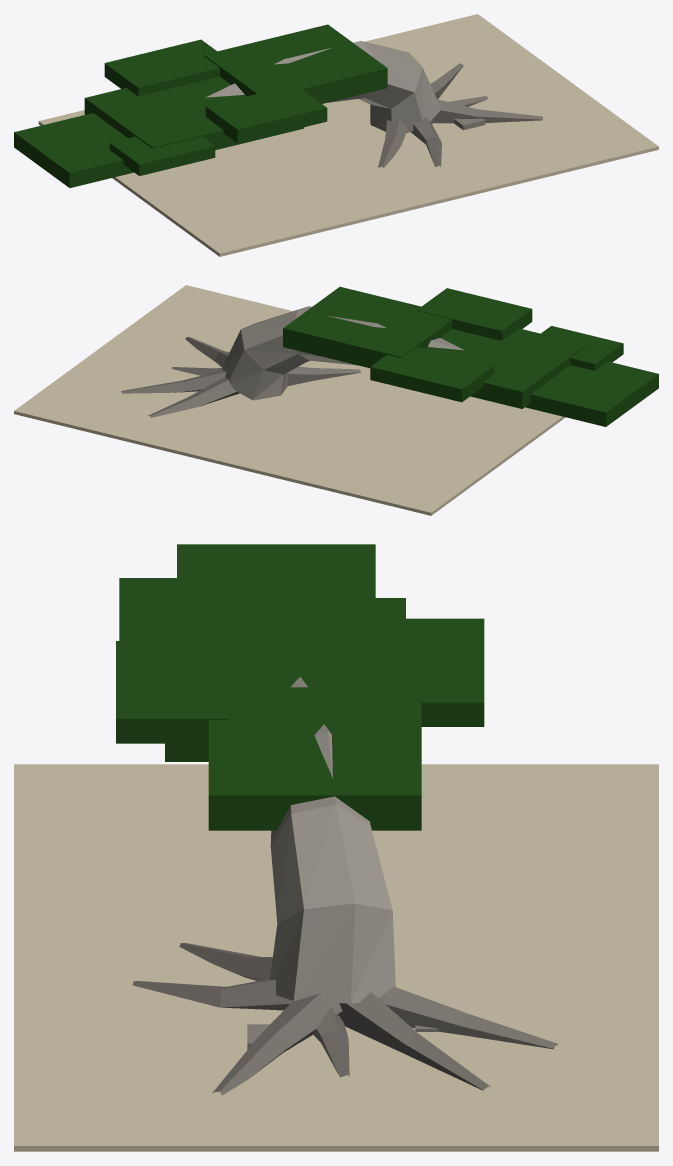
The model's file is eb_fofoti_12.glb.
3 renders of one model, top to bottom at view 1: azimuth 30°, elevation 25°; view 2: azimuth 150°, elevation 25°; view 3: azimuth 270°, elevation 25°, orthographic. The views are drawn at different scales.
Visible parts, largest first — view 1: eb_fofoti_12_lod0; view 2: eb_fofoti_12_lod0; view 3: eb_fofoti_12_lod0.
Part boxes in pixels (x1,y1,x2,y2): eb_fofoti_12_lod0: (14, 14, 658, 256); eb_fofoti_12_lod0: (14, 285, 658, 515); eb_fofoti_12_lod0: (14, 544, 658, 1151).
Size of what is drawn, in the model's own units: 17.33 by 3.09 by 10.
